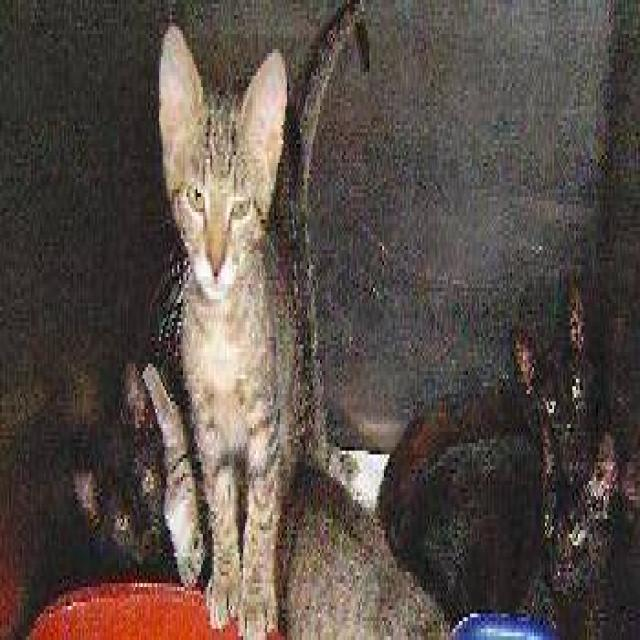cat: (142, 10, 342, 640), (361, 215, 600, 629), (53, 279, 199, 640), (519, 386, 640, 640)
